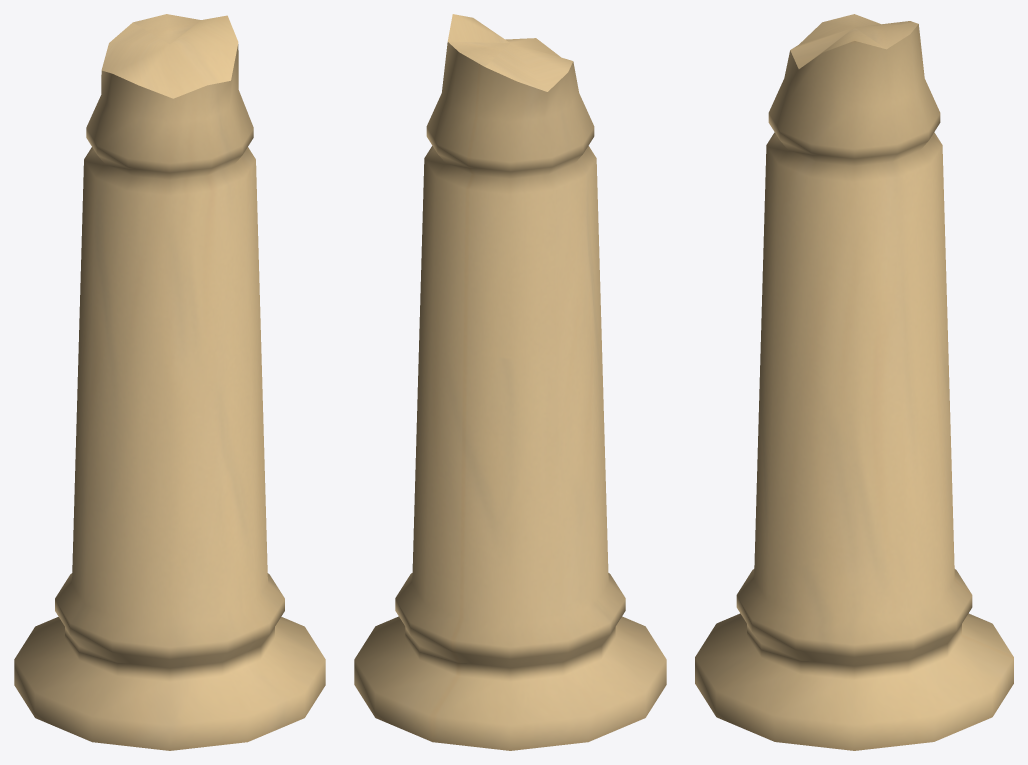
The model's file is Column5A.FBX.
The picture shows the model from 3 angles, left to right: view 1: azimuth 30°, elevation 25°; view 2: azimuth 150°, elevation 25°; view 3: azimuth 270°, elevation 25°; orthographic projection. The views are drawn at different scales.
Visible parts, largest first — view 1: Column5A; view 2: Column5A; view 3: Column5A.
Part boxes in pixels (x1=…): Column5A: x1=14, y1=14, x2=325, y2=750; Column5A: x1=354, y1=14, x2=666, y2=750; Column5A: x1=695, y1=14, x2=1013, y2=750.
Bounding box in the file's own units: 9.32 × 9.32 × 21.65.
1 material, 1 textured.
